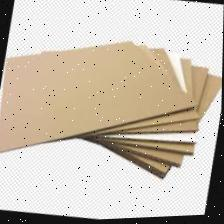cardboard: (0, 12, 224, 202)
